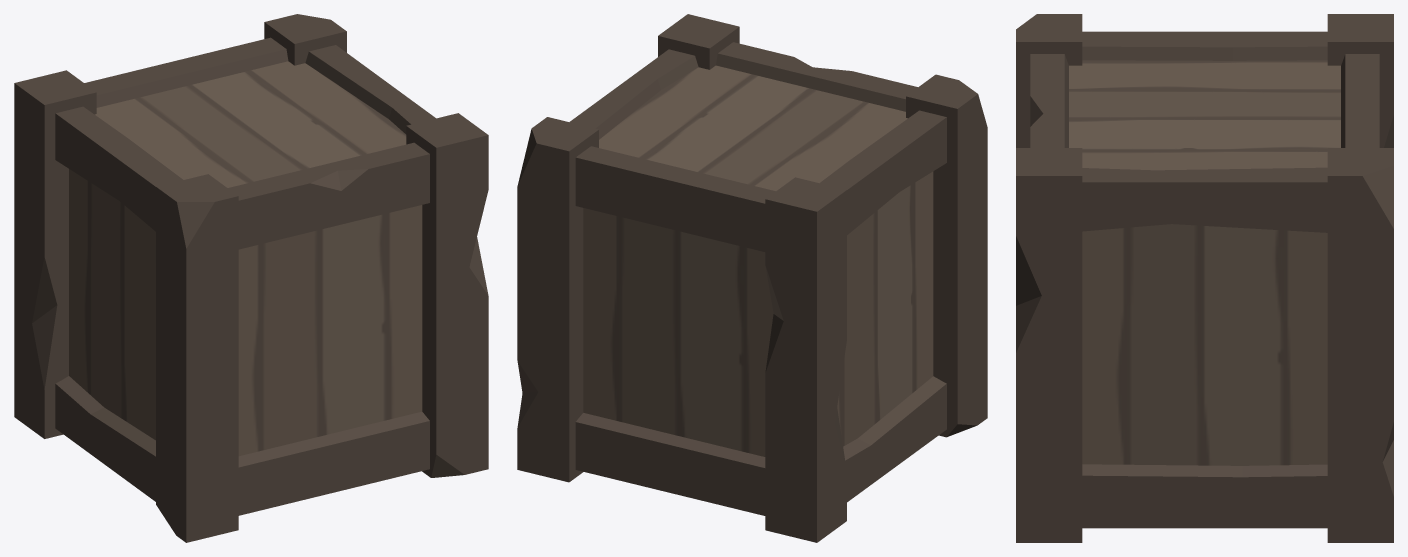
File: SM_Prop_Crate_01.glb
The picture shows the model from 3 angles, left to right: view 1: azimuth 30°, elevation 25°; view 2: azimuth 150°, elevation 25°; view 3: azimuth 270°, elevation 25°; orthographic projection. The views are drawn at different scales.
Visible parts, largest first — view 1: SM_Prop_Crate_01; view 2: SM_Prop_Crate_01; view 3: SM_Prop_Crate_01.
Boxes of the visible parts, x1,y1,x2,y2 form: SM_Prop_Crate_01: (14,14,488,542); SM_Prop_Crate_01: (517,14,987,542); SM_Prop_Crate_01: (1016,14,1393,542).
Size of the model in its own units: 0.827 by 0.8734 by 0.8147.
Materials: 1 (1 with a texture image).
